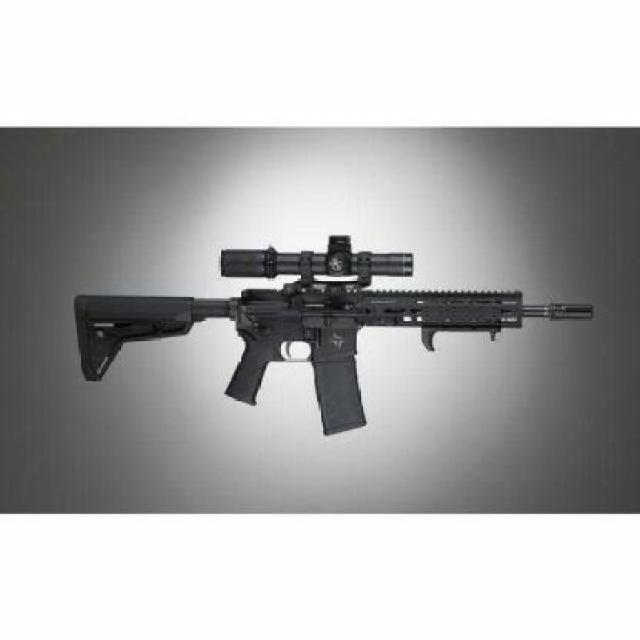weapon: (72, 233, 598, 439)
